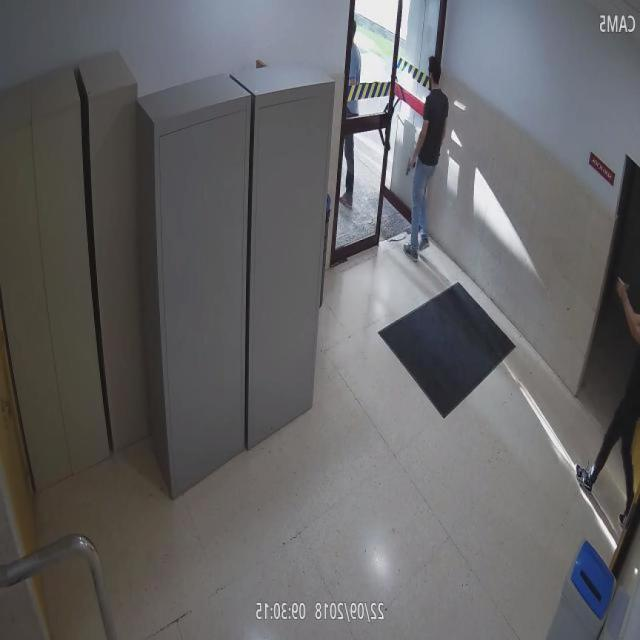pistol: (606, 272, 630, 299), (405, 155, 417, 178)
